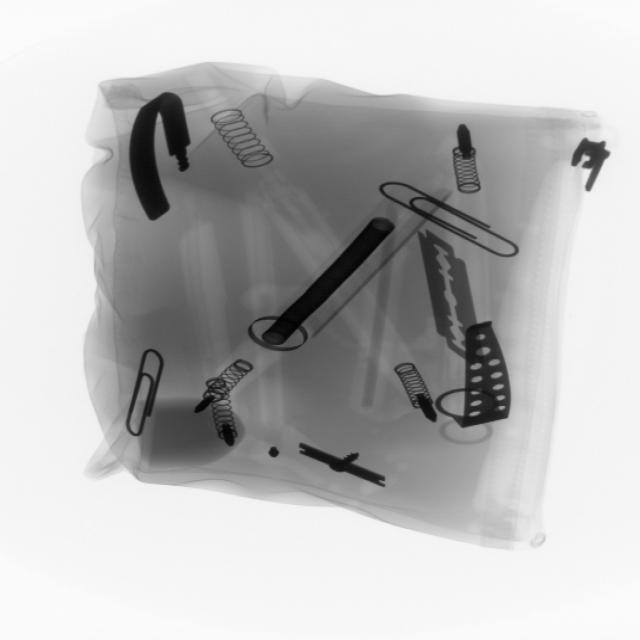BLADE: (418, 226, 486, 366)
